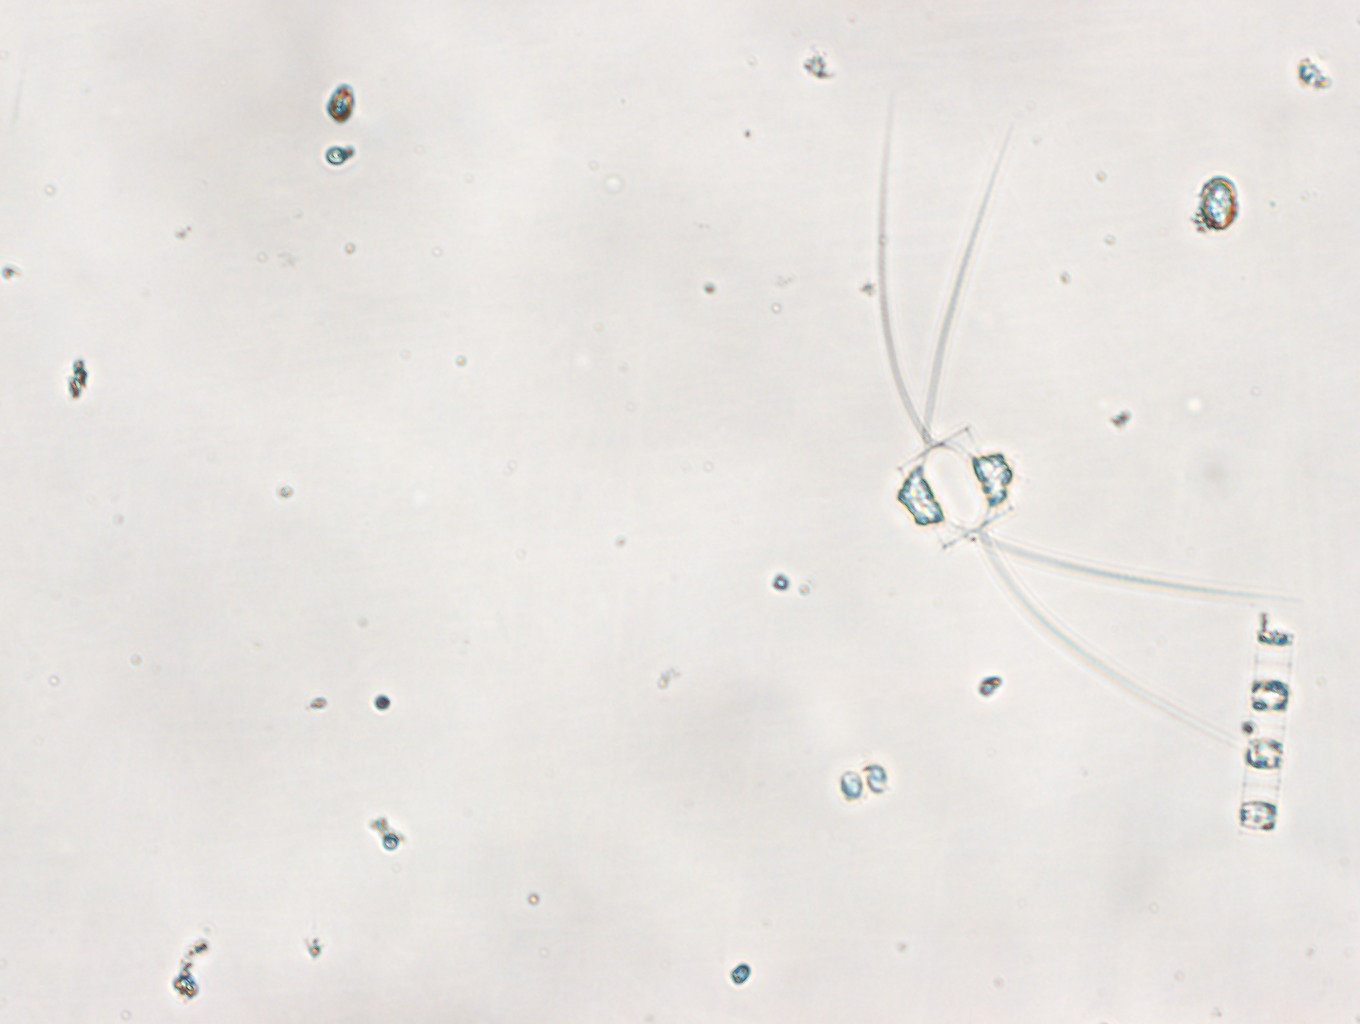chaetoceros: (877, 97, 1299, 746)
skeletonema: (1232, 605, 1294, 835)
